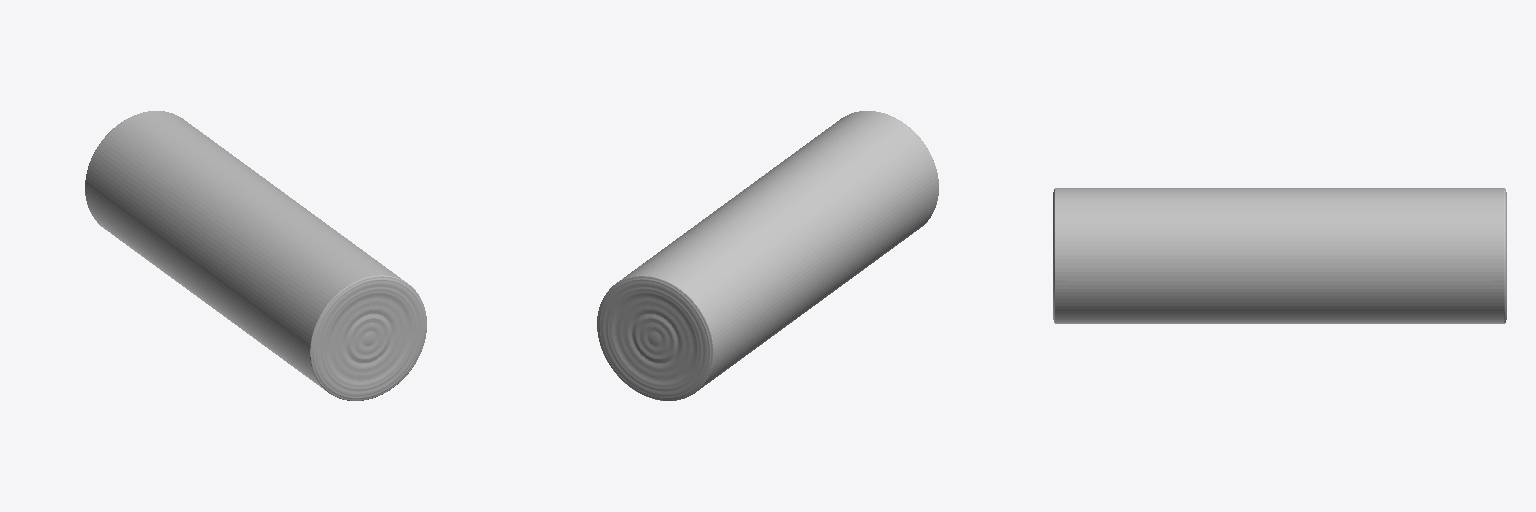
The model's file is bandage.obj.
3 views of the same model, side by side, from view 1: azimuth 30°, elevation 25°; view 2: azimuth 150°, elevation 25°; view 3: azimuth 270°, elevation 25° (orthographic).
Visible parts, largest first — view 1: cadnav_com; view 2: cadnav_com; view 3: cadnav_com.
Part boxes in pixels (x1,y1,x2,y2): cadnav_com: (85, 111, 426, 400); cadnav_com: (597, 111, 938, 400); cadnav_com: (1053, 188, 1506, 323).
Size of the model in its own units: 11.66 by 11.66 by 39.17.